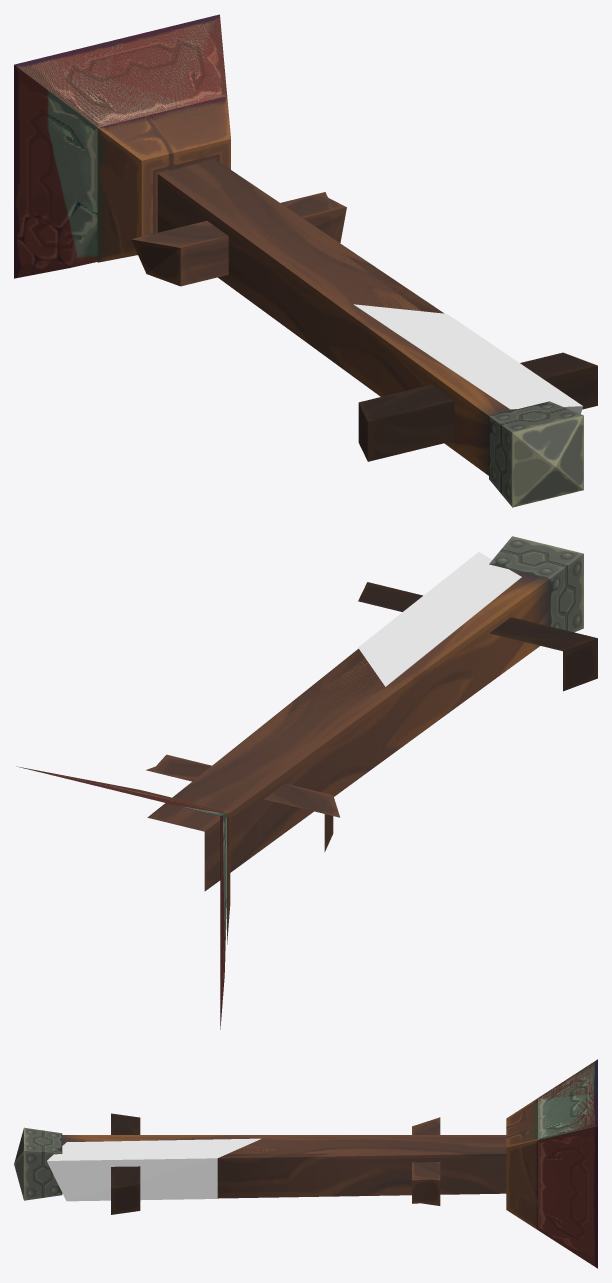
3 views of the same model, one above another, from view 1: azimuth 30°, elevation 25°; view 2: azimuth 150°, elevation 25°; view 3: azimuth 270°, elevation 25° (orthographic). The views are drawn at different scales.
Parts seen in each view (by area): view 1: tapestry.model_base-MeshSets[restored].Mesh[0], tapestry.model_base-MeshSets[charred].Mesh[1], tapestry.model_base-MeshSets[charred].Mesh[0]; view 2: tapestry.model_base-MeshSets[restored].Mesh[0], tapestry.model_base-MeshSets[charred].Mesh[1], tapestry.model_base-MeshSets[charred].Mesh[0]; view 3: tapestry.model_base-MeshSets[charred].Mesh[1], tapestry.model_base-MeshSets[restored].Mesh[0], tapestry.model_base-MeshSets[charred].Mesh[0].
Part boxes in pixels (x1=…): tapestry.model_base-MeshSets[restored].Mesh[0]: x1=15, y1=15, x2=583, y2=507; tapestry.model_base-MeshSets[charred].Mesh[1]: x1=14, y1=14, x2=597, y2=461; tapestry.model_base-MeshSets[charred].Mesh[0]: x1=353, y1=304, x2=582, y2=413; tapestry.model_base-MeshSets[restored].Mesh[0]: x1=34, y1=536, x2=583, y2=952; tapestry.model_base-MeshSets[charred].Mesh[1]: x1=16, y1=582, x2=597, y2=1029; tapestry.model_base-MeshSets[charred].Mesh[0]: x1=358, y1=552, x2=521, y2=686; tapestry.model_base-MeshSets[charred].Mesh[1]: x1=111, y1=1059, x2=597, y2=1268; tapestry.model_base-MeshSets[restored].Mesh[0]: x1=14, y1=1059, x2=597, y2=1219; tapestry.model_base-MeshSets[charred].Mesh[0]: x1=47, y1=1138, x2=261, y2=1201.
Bounding box in the file's own units: 1.12 × 1 × 3.71.
Materials: 3 (2 with a texture image).
